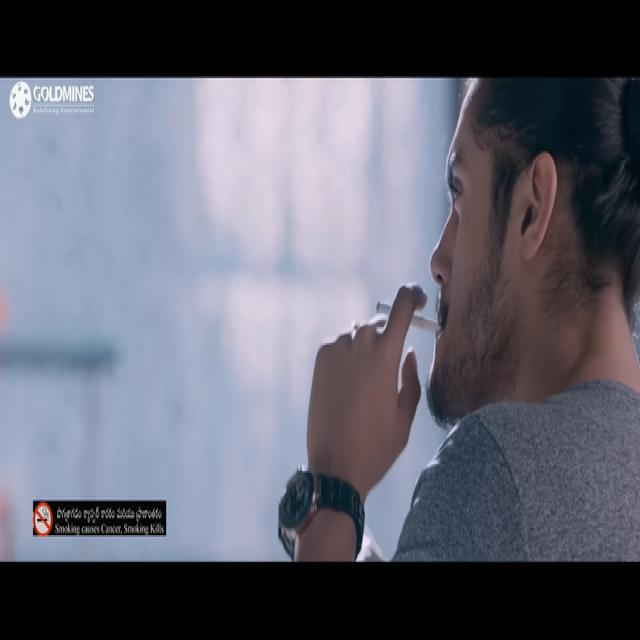smoking: (377, 292, 451, 340)
